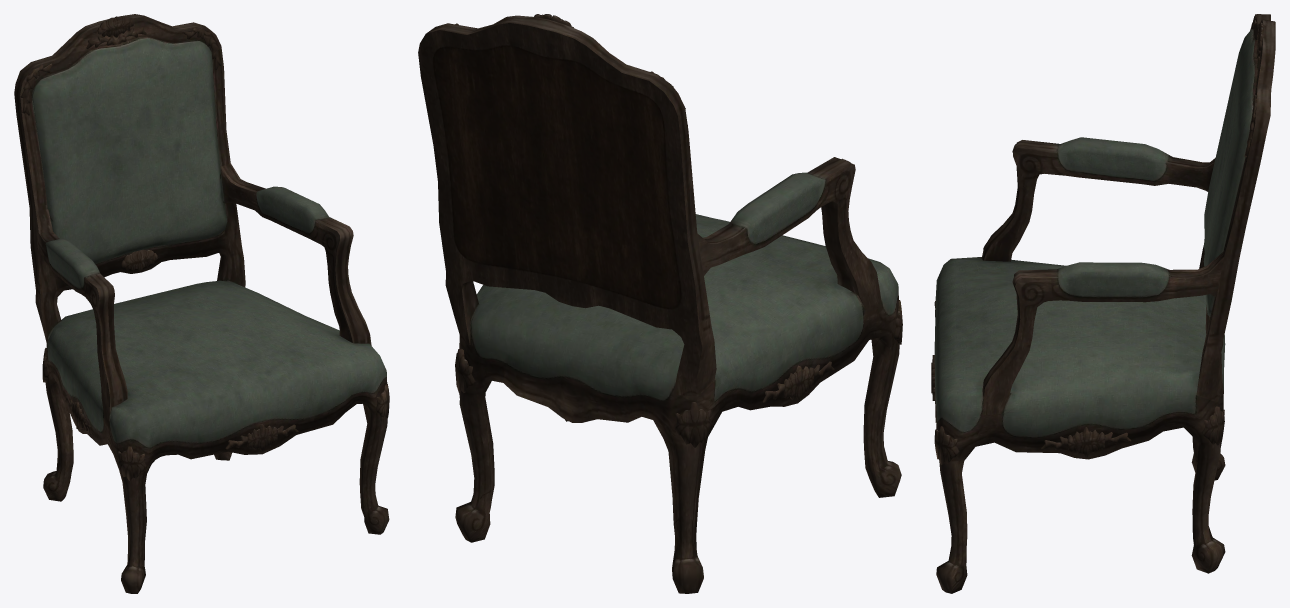
Rendered from green_chair.glb.
3 renders of one model, left to right at view 1: azimuth 30°, elevation 25°; view 2: azimuth 150°, elevation 25°; view 3: azimuth 270°, elevation 25°, orthographic. The views are drawn at different scales.
Parts seen in each view (by area): view 1: GreenChair_01; view 2: GreenChair_01; view 3: GreenChair_01.
Boxes of the visible parts, <box> form: GreenChair_01: <box>14,14,389,593</box>; GreenChair_01: <box>418,14,902,593</box>; GreenChair_01: <box>931,14,1275,593</box>.
Size of the model in its own units: 0.9625 by 1.51 by 0.9501.
1 material, 1 textured.
